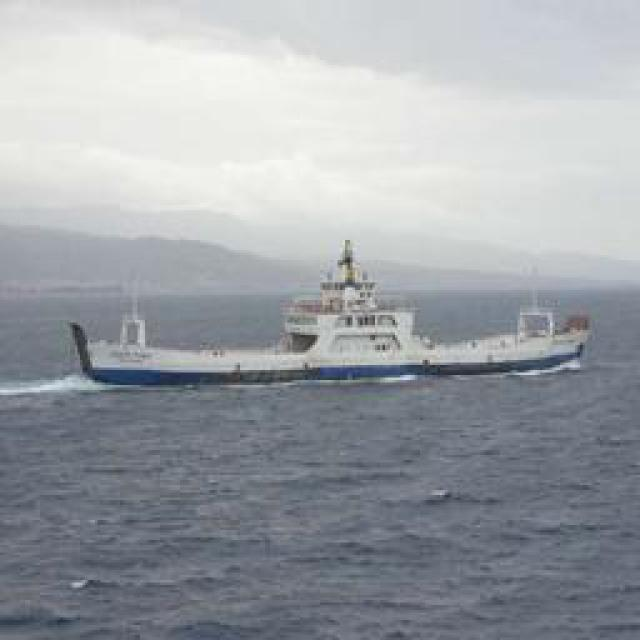Ship: (61, 247, 591, 390)
